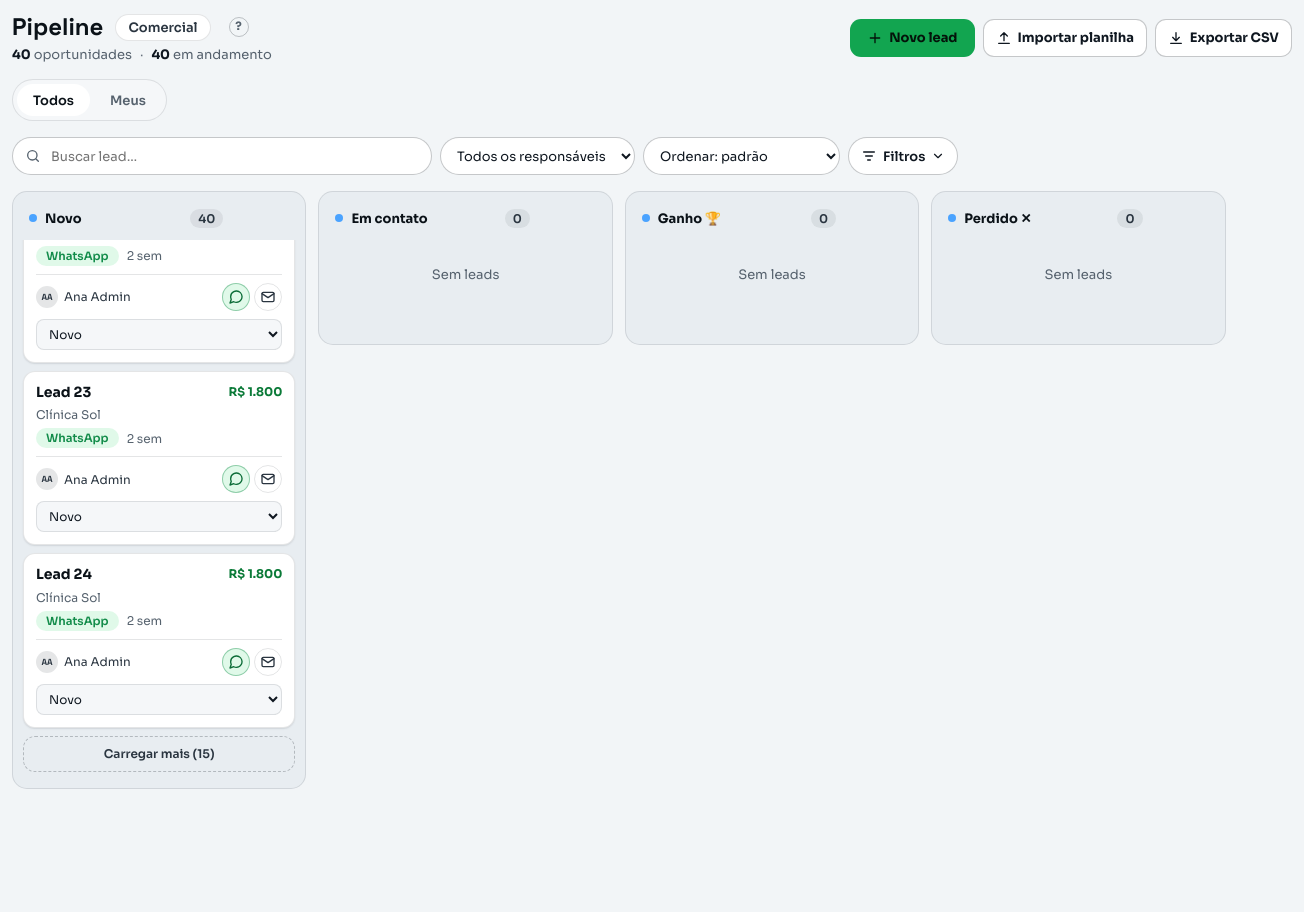
Test: F-01 paginação por coluna › erro ao carregar mais mostra aviso na coluna e preserva o que já estava
The image size is (1304, 912).
(page scrolled)
Click the button "Carregar mais (15)" at (159, 754), box top-left (23, 736), bottom-right (295, 772)
(page scrolled)
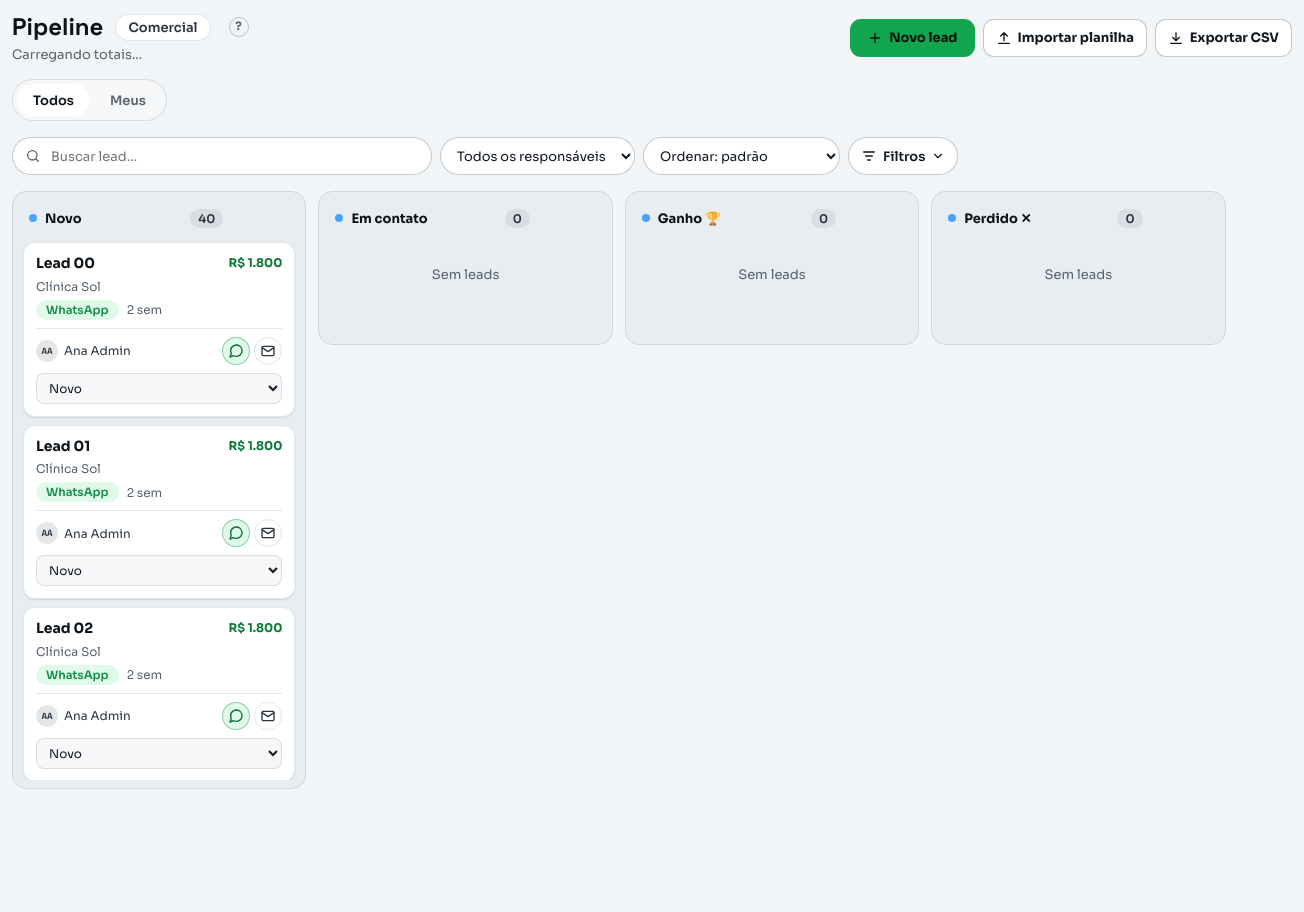
Expected: the text "Lead 00" is shown, top-left (36, 255), bottom-right (95, 272)
